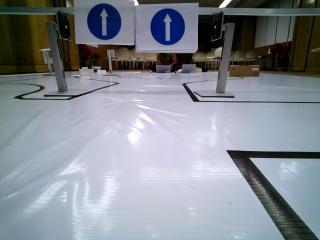straight: (137, 2, 198, 51), (78, 1, 132, 42)
